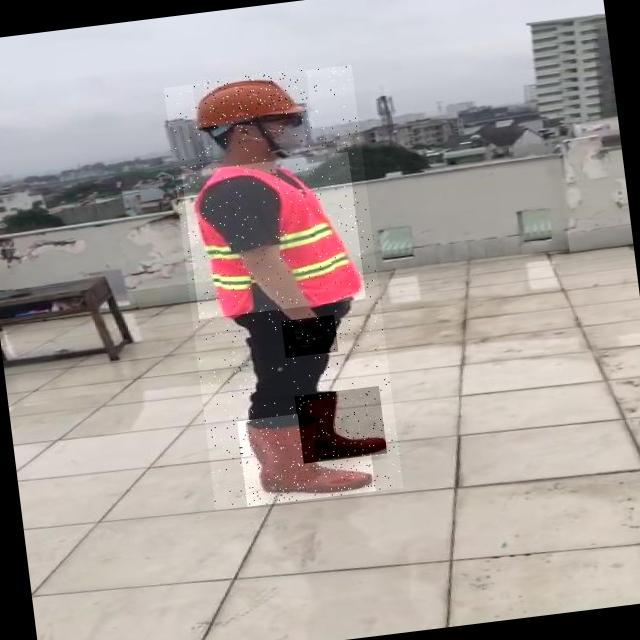Gloves: (282, 315, 338, 358)
Helmet: (194, 68, 313, 130)
Human: (164, 64, 405, 510)
Safety Boot: (238, 405, 376, 506), (295, 385, 387, 463)
Safety Vest: (182, 152, 366, 319)
